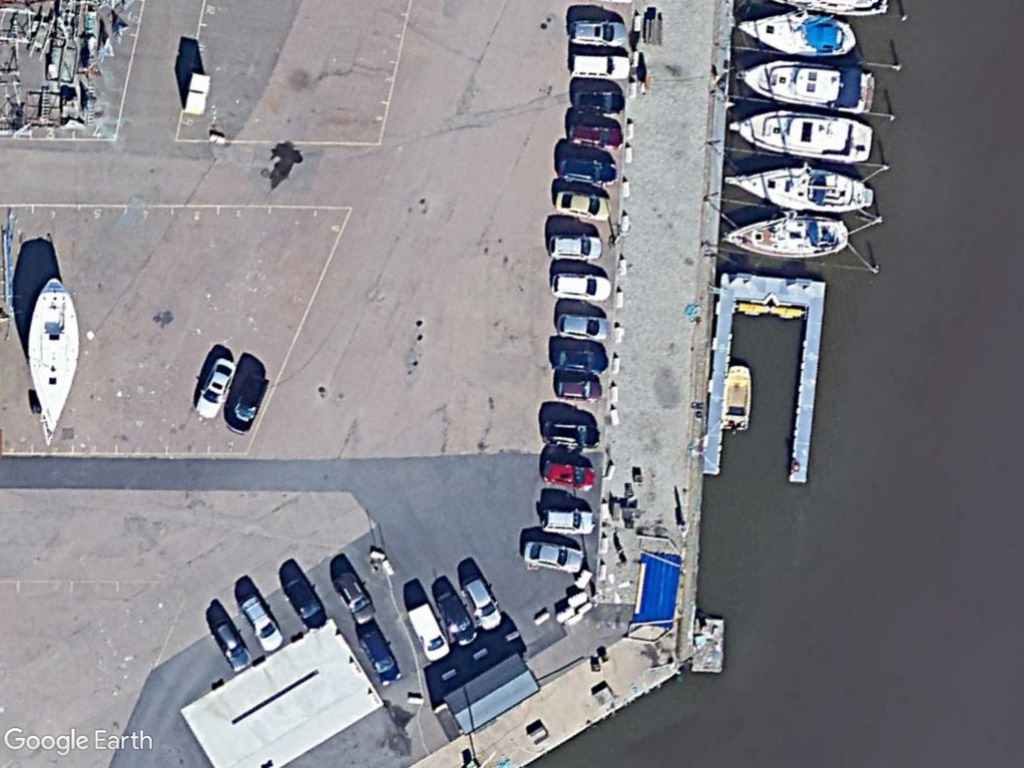boat: (19, 268, 81, 449), (733, 54, 878, 117), (723, 161, 877, 219), (726, 106, 873, 166), (713, 207, 853, 260), (731, 6, 861, 61)
car: (192, 353, 240, 421), (222, 368, 270, 436), (280, 571, 330, 634), (234, 589, 282, 652), (329, 567, 379, 627), (207, 617, 256, 675), (360, 625, 404, 688), (520, 537, 587, 577), (434, 586, 477, 647), (552, 153, 622, 189), (550, 182, 613, 222), (547, 268, 614, 303), (462, 572, 503, 629), (536, 503, 599, 540), (564, 14, 630, 49), (561, 118, 627, 153), (566, 49, 631, 84), (539, 418, 604, 453), (547, 342, 611, 376), (553, 309, 613, 343), (545, 231, 605, 263), (550, 371, 606, 404)
van: (404, 601, 451, 665)
